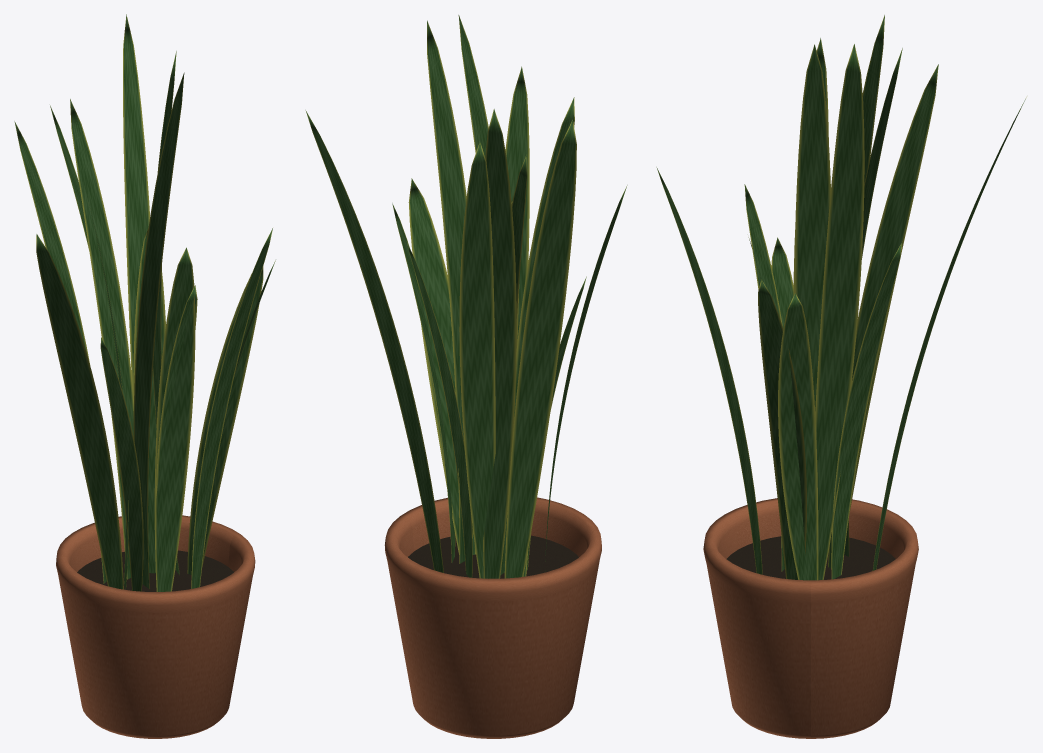
The model's file is cozy-snake-plant.glb.
3 renders of one model, left to right at view 1: azimuth 30°, elevation 25°; view 2: azimuth 150°, elevation 25°; view 3: azimuth 270°, elevation 25°, orthographic. The views are drawn at different scales.
Visible parts, largest first — view 1: cozy-snake-plant - Snake leaf, cozy-snake-plant - Muted terracotta, cozy-snake-plant - Dark potting soil; view 2: cozy-snake-plant - Snake leaf, cozy-snake-plant - Muted terracotta, cozy-snake-plant - Dark potting soil; view 3: cozy-snake-plant - Snake leaf, cozy-snake-plant - Muted terracotta, cozy-snake-plant - Dark potting soil.
Part boxes in pixels (<box>): cozy-snake-plant - Snake leaf: <box>14,14,275,591</box>; cozy-snake-plant - Muted terracotta: <box>56,515,255,738</box>; cozy-snake-plant - Dark potting soil: <box>77,550,233,591</box>; cozy-snake-plant - Snake leaf: <box>305,15,627,578</box>; cozy-snake-plant - Muted terracotta: <box>384,497,601,738</box>; cozy-snake-plant - Dark potting soil: <box>408,535,578,578</box>; cozy-snake-plant - Snake leaf: <box>656,15,1026,580</box>; cozy-snake-plant - Muted terracotta: <box>703,498,918,738</box>; cozy-snake-plant - Dark potting soil: <box>726,536,895,579</box>.
Bounding box in the file's own units: 0.3586 × 0.9833 × 0.4844.
Materials: 3 (3 with a texture image).
